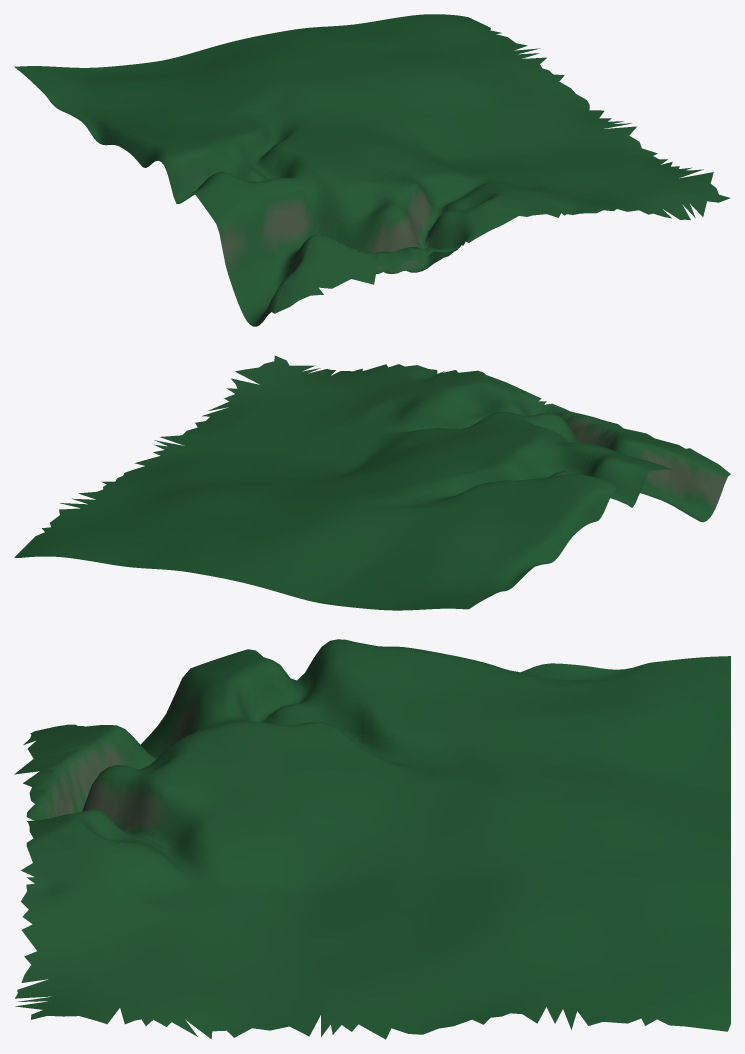
The model's file is payo_land_xm4_y4.glb.
3 views of the same model, one above another, from view 1: azimuth 30°, elevation 25°; view 2: azimuth 150°, elevation 25°; view 3: azimuth 270°, elevation 25° (orthographic). The views are drawn at different scales.
Visible parts, largest first — view 1: payo_land_xm4_y4; view 2: payo_land_xm4_y4; view 3: payo_land_xm4_y4.
Part boxes in pixels (left/top/right/bottom): payo_land_xm4_y4: left=14, top=14, right=730, bottom=326; payo_land_xm4_y4: left=14, top=355, right=730, bottom=610; payo_land_xm4_y4: left=14, top=639, right=730, bottom=1039.
Bounding box in the file's own units: 264 × 54.99 × 263.
